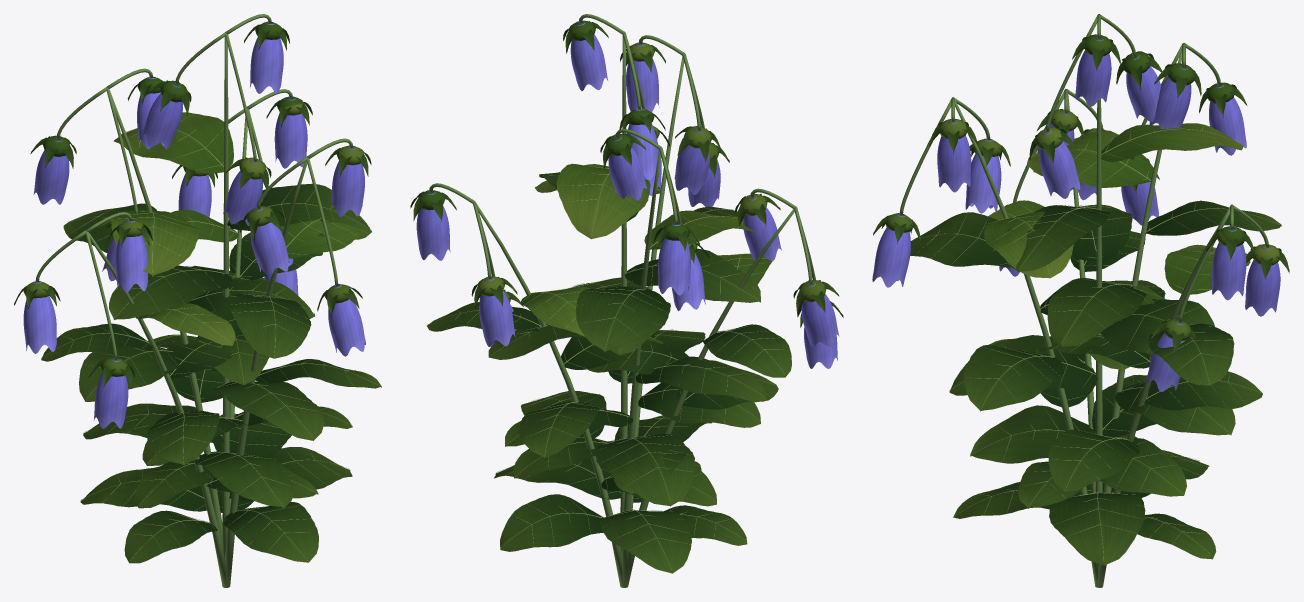
Rendered from bellflower-09.glb.
3 renders of one model, left to right at view 1: azimuth 30°, elevation 25°; view 2: azimuth 150°, elevation 25°; view 3: azimuth 270°, elevation 25°, orthographic. The views are drawn at different scales.
Visible parts, largest first — view 1: bellflower_stage_09_leaf_veins.016, bellflower_stage_09_bellflower_petal.016, bellflower_stage_09_young_leaf.016, bellflower_stage_09_stem_fibres.016, bellflower_stage_09_raised_midveins.016; view 2: bellflower_stage_09_leaf_veins.016, bellflower_stage_09_bellflower_petal.016, bellflower_stage_09_young_leaf.016, bellflower_stage_09_stem_fibres.016, bellflower_stage_09_raised_midveins.016; view 3: bellflower_stage_09_leaf_veins.016, bellflower_stage_09_bellflower_petal.016, bellflower_stage_09_young_leaf.016, bellflower_stage_09_stem_fibres.016, bellflower_stage_09_raised_midveins.016.
Part boxes in pixels (box(x1,y1,x2,y2)): bellflower_stage_09_leaf_veins.016: box(14, 24, 381, 563); bellflower_stage_09_bellflower_petal.016: box(23, 21, 365, 428); bellflower_stage_09_young_leaf.016: box(23, 22, 369, 376); bellflower_stage_09_stem_fibres.016: box(35, 14, 353, 587); bellflower_stage_09_raised_midveins.016: box(42, 115, 380, 561); bellflower_stage_09_leaf_veins.016: box(410, 21, 843, 573); bellflower_stage_09_bellflower_petal.016: box(416, 21, 839, 368); bellflower_stage_09_young_leaf.016: box(418, 20, 826, 336); bellflower_stage_09_stem_fibres.016: box(429, 14, 815, 587); bellflower_stage_09_raised_midveins.016: box(427, 163, 784, 571); bellflower_stage_09_leaf_veins.016: box(873, 34, 1289, 565); bellflower_stage_09_bellflower_petal.016: box(872, 35, 1280, 391); bellflower_stage_09_young_leaf.016: box(885, 34, 1279, 340); bellflower_stage_09_stem_fibres.016: box(899, 14, 1268, 587); bellflower_stage_09_raised_midveins.016: box(912, 125, 1278, 561).
Bounding box in the file's own units: 0.4066 × 0.6137 × 0.3988.
Materials: 5 (3 with a texture image).
